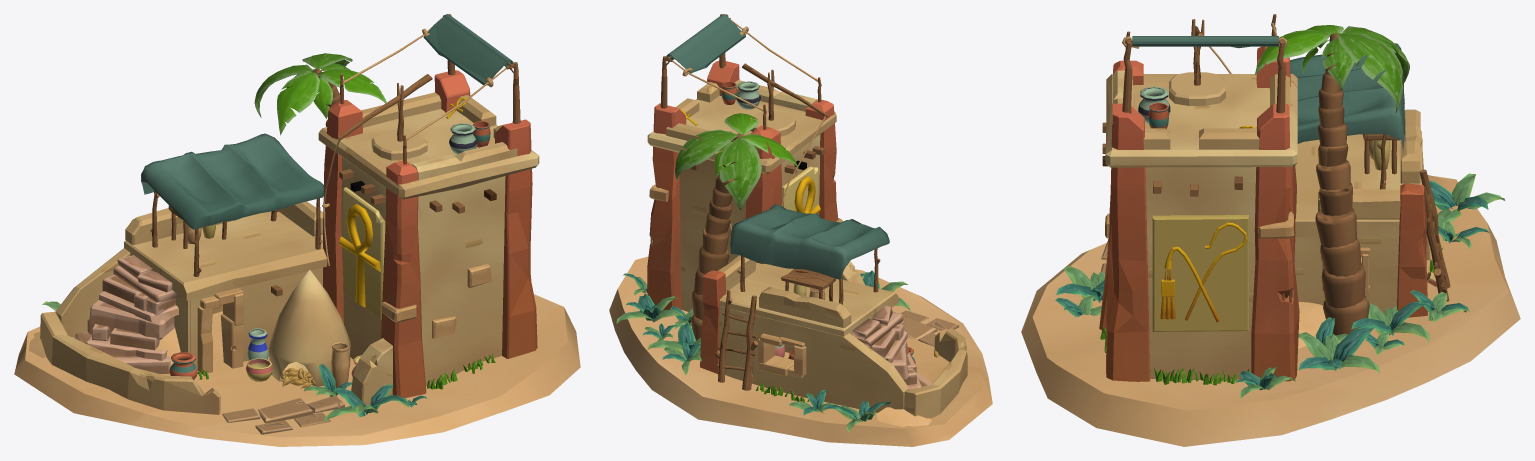
Rendered from Blockout.fbx.
The picture shows the model from 3 angles, left to right: view 1: azimuth 30°, elevation 25°; view 2: azimuth 150°, elevation 25°; view 3: azimuth 270°, elevation 25°; orthographic projection. The views are drawn at different scales.
Parts seen in each view (by area): view 1: polySurface572, polySurface85, polySurface49, polySurface630, polySurface296, polySurface57, polySurface633, polySurface1, polySurface222, polySurface217, polySurface228, polySurface570 (+30 smaller); view 2: polySurface572, polySurface60, polySurface49, polySurface632, polySurface630, polySurface237, polySurface57, polySurface633, polySurface228, polySurface247, polySurface111, polySurface296 (+27 smaller); view 3: polySurface572, polySurface9, polySurface242, polySurface1, polySurface632, polySurface57, polySurface49, polySurface630, polySurface283, polySurface292, polySurface112, polySurface228 (+30 smaller).
Part boxes in pixels (bbox=[...]): polySurface572: bbox=[14, 294, 580, 446]; polySurface85: bbox=[418, 176, 505, 385]; polySurface49: bbox=[141, 133, 324, 229]; polySurface630: bbox=[124, 211, 327, 300]; polySurface296: bbox=[381, 160, 426, 398]; polySurface57: bbox=[318, 109, 539, 199]; polySurface633: bbox=[40, 311, 220, 414]; polySurface1: bbox=[495, 119, 537, 358]; polySurface222: bbox=[269, 269, 350, 386]; polySurface217: bbox=[323, 100, 362, 323]; polySurface228: bbox=[406, 14, 514, 140]; polySurface570: bbox=[190, 267, 322, 370]; polySurface572: bbox=[609, 256, 992, 446]; polySurface60: bbox=[719, 306, 909, 412]; polySurface49: bbox=[730, 204, 889, 279]; polySurface632: bbox=[647, 103, 686, 310]; polySurface630: bbox=[719, 262, 898, 336]; polySurface237: bbox=[679, 159, 745, 311]; polySurface57: bbox=[647, 95, 836, 174]; polySurface633: bbox=[904, 328, 967, 418]; polySurface228: bbox=[665, 14, 818, 82]; polySurface247: bbox=[759, 287, 851, 327]; polySurface111: bbox=[718, 137, 761, 211]; polySurface296: bbox=[805, 99, 838, 221]; polySurface572: bbox=[1021, 175, 1520, 446]; polySurface9: bbox=[1145, 167, 1256, 380]; polySurface242: bbox=[1152, 215, 1248, 331]; polySurface1: bbox=[1106, 103, 1150, 381]; polySurface632: bbox=[1251, 103, 1299, 381]; polySurface57: bbox=[1105, 74, 1297, 167]; polySurface49: bbox=[1290, 43, 1405, 150]; polySurface630: bbox=[1295, 131, 1421, 237]; polySurface283: bbox=[1294, 237, 1398, 313]; polySurface292: bbox=[1397, 183, 1427, 317]; polySurface112: bbox=[1337, 33, 1403, 114]; polySurface228: bbox=[1126, 36, 1284, 48].
Size of the model in its own units: 1517 by 996 by 1212.
